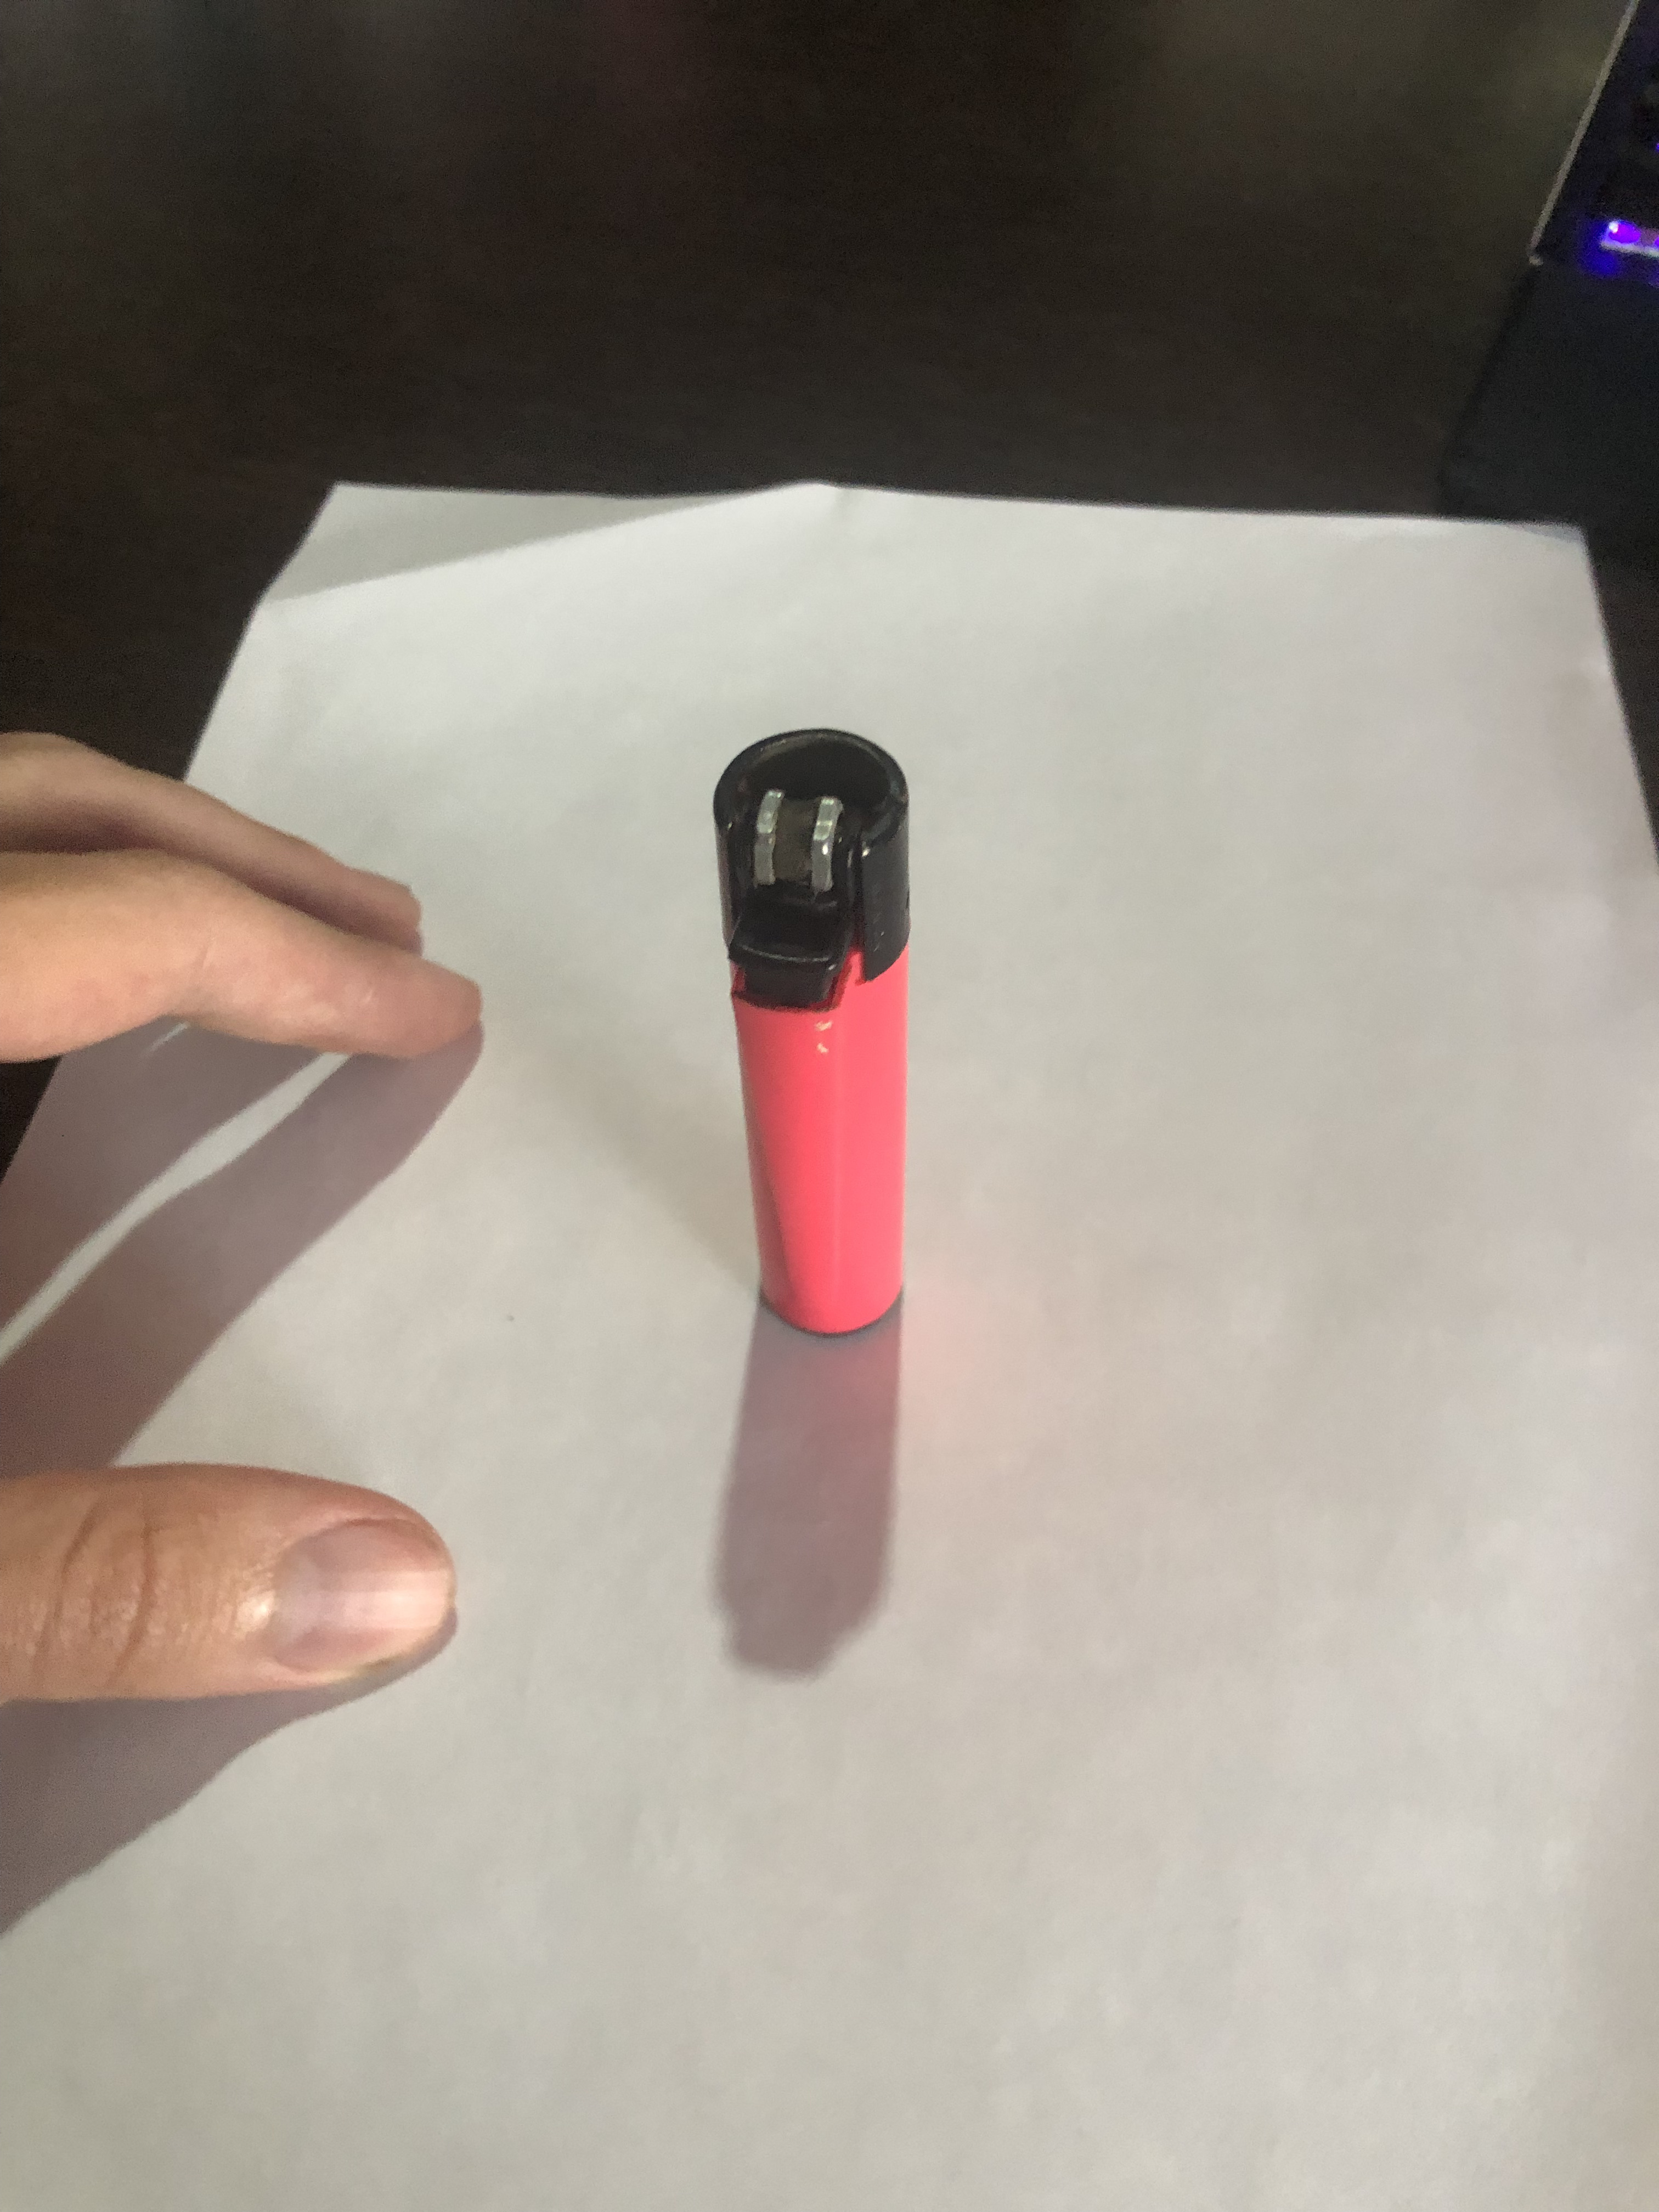Mechero: (702, 725, 929, 1350)
